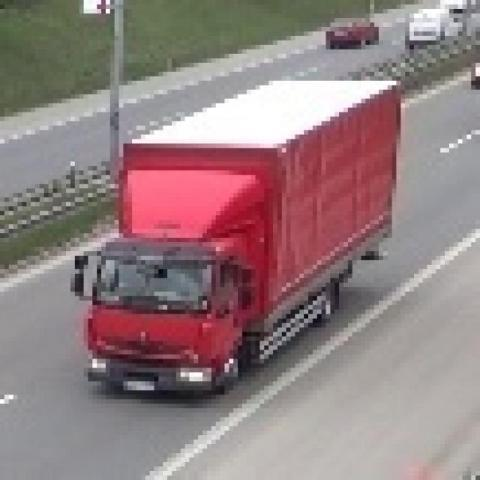truck: (66, 72, 397, 395)
